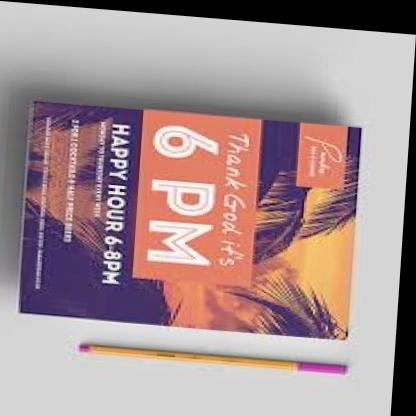Paper: (2, 68, 385, 344)
